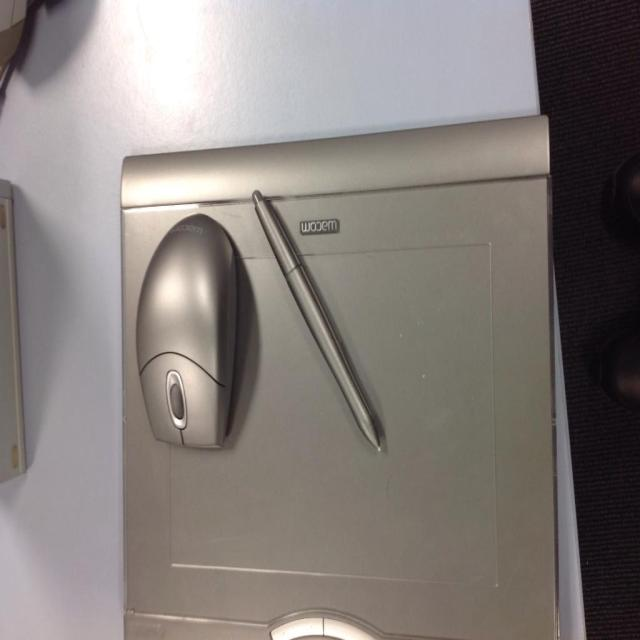Computer mouse: (135, 214, 239, 452)
